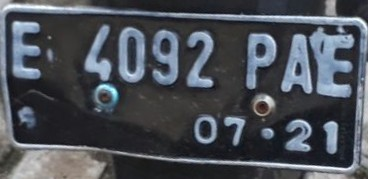plate: (1, 3, 362, 174)
